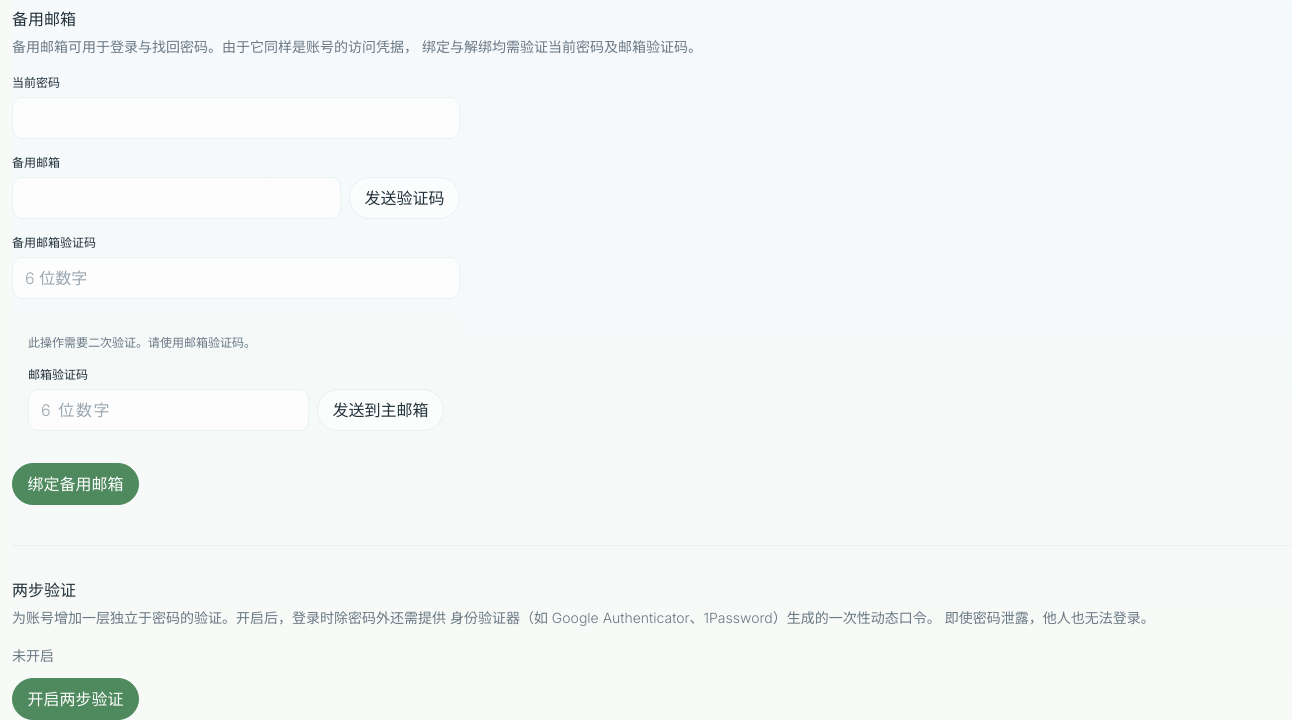
it: security settings › shows recovery codes exactly once when enabling 2FA
The image size is (1292, 720).
(page scrolled)
Expected: the text "未开启" is shown, x1=12 y1=647 x2=54 y2=664
Step 1. Click the button "开启两步验证" → (75, 699), box x1=12 y1=678 x2=139 y2=719
(page scrolled)
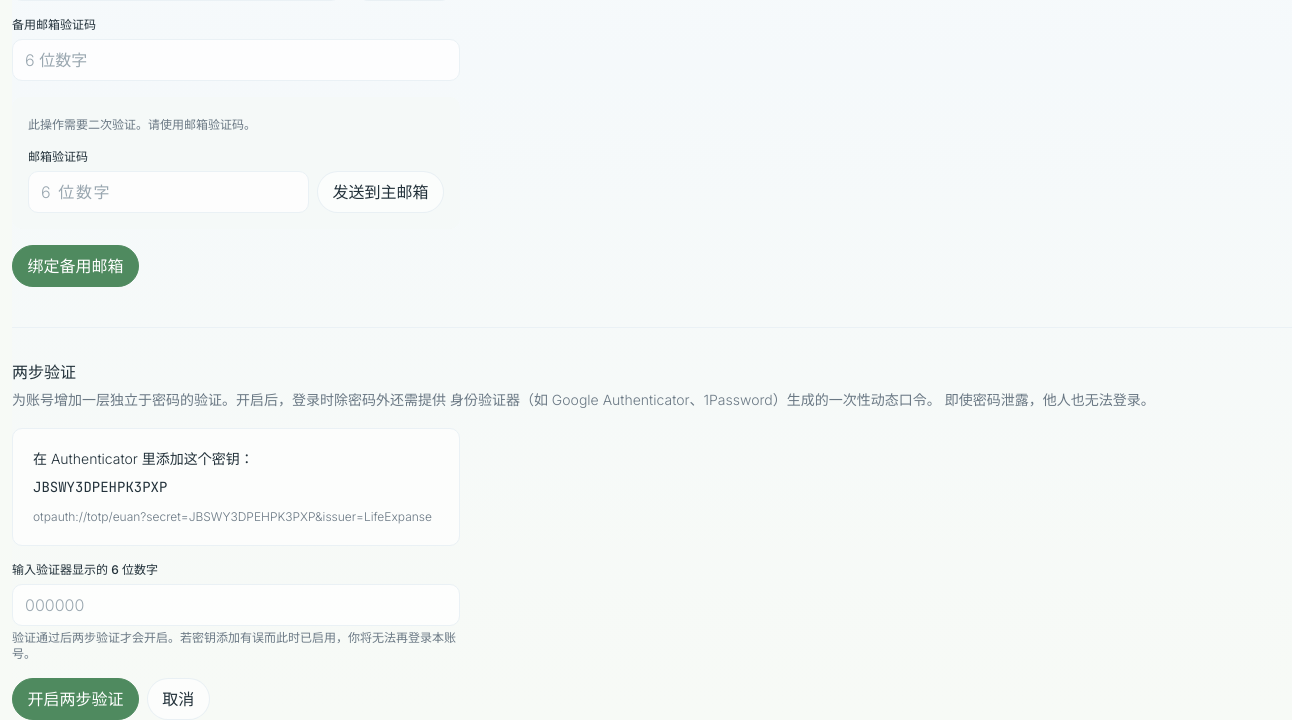
Result: the field labelled "输入验证器显示的 6 位数字" is shown
Step 2. Type "123456" into the field labelled "输入验证器显示的 6 位数字" → (236, 605), box x1=12 y1=584 x2=460 y2=626
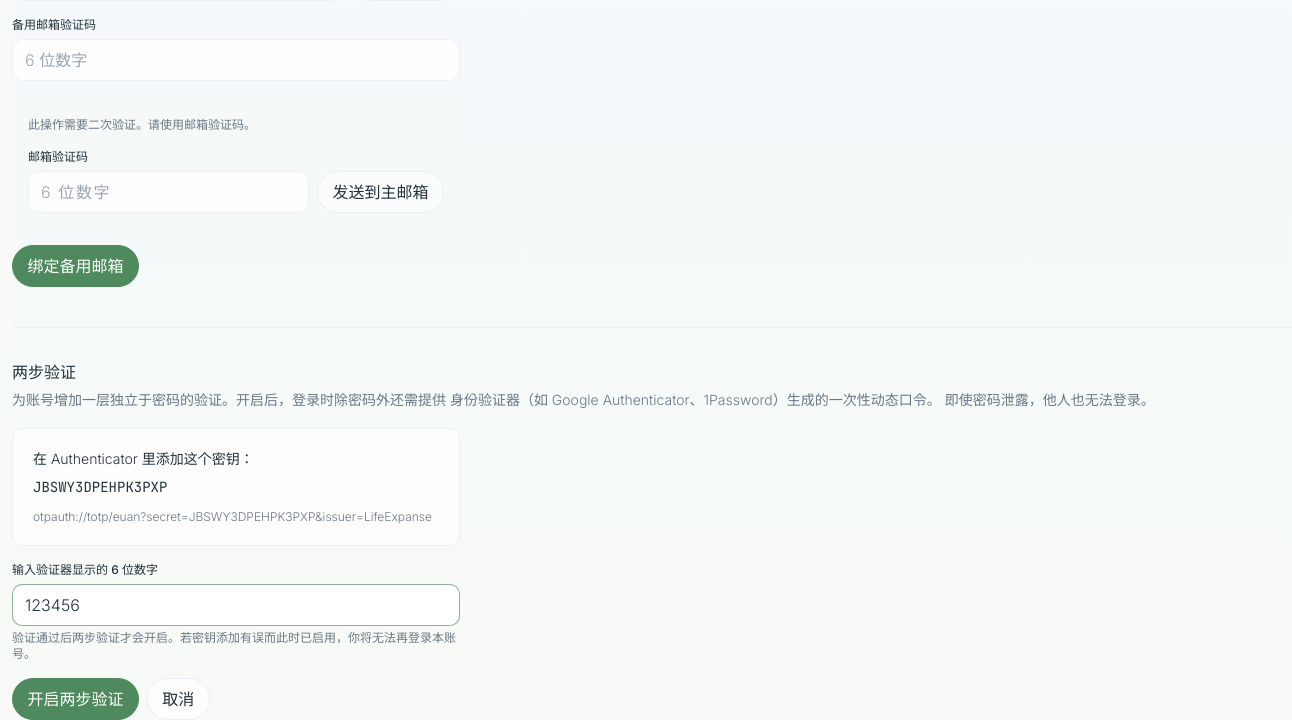
Step 3. Click the button "开启两步验证" → (75, 699), box x1=12 y1=678 x2=139 y2=719
(page scrolled)
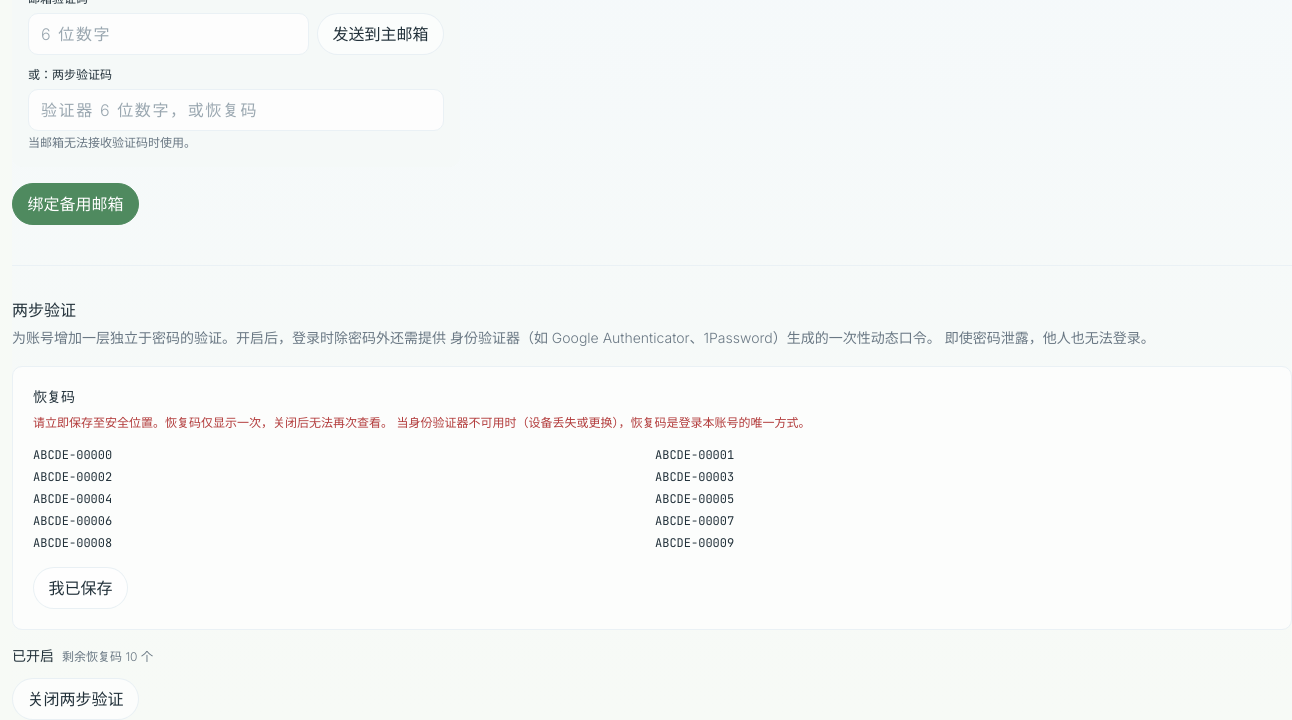
Result: the text "恢复码" is shown at x1=33 y1=388 x2=75 y2=405
Result: the list item "ABCDE-00000" is shown at x1=33 y1=447 x2=112 y2=463
Dismissed and gone — nothing can bring them back.
Step 4. Click the button "我已保存" → (80, 588), box x1=33 y1=567 x2=128 y2=609
(page scrolled)
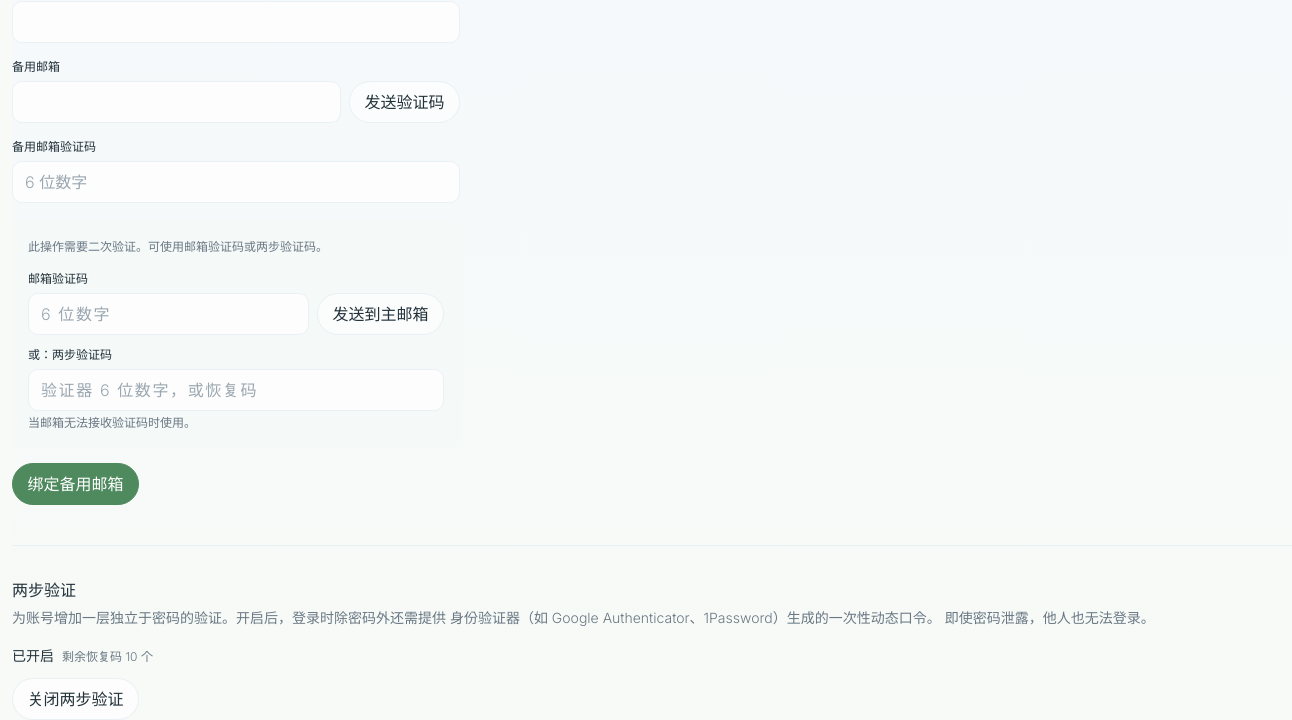
Result: the list item "ABCDE-00000" is gone
